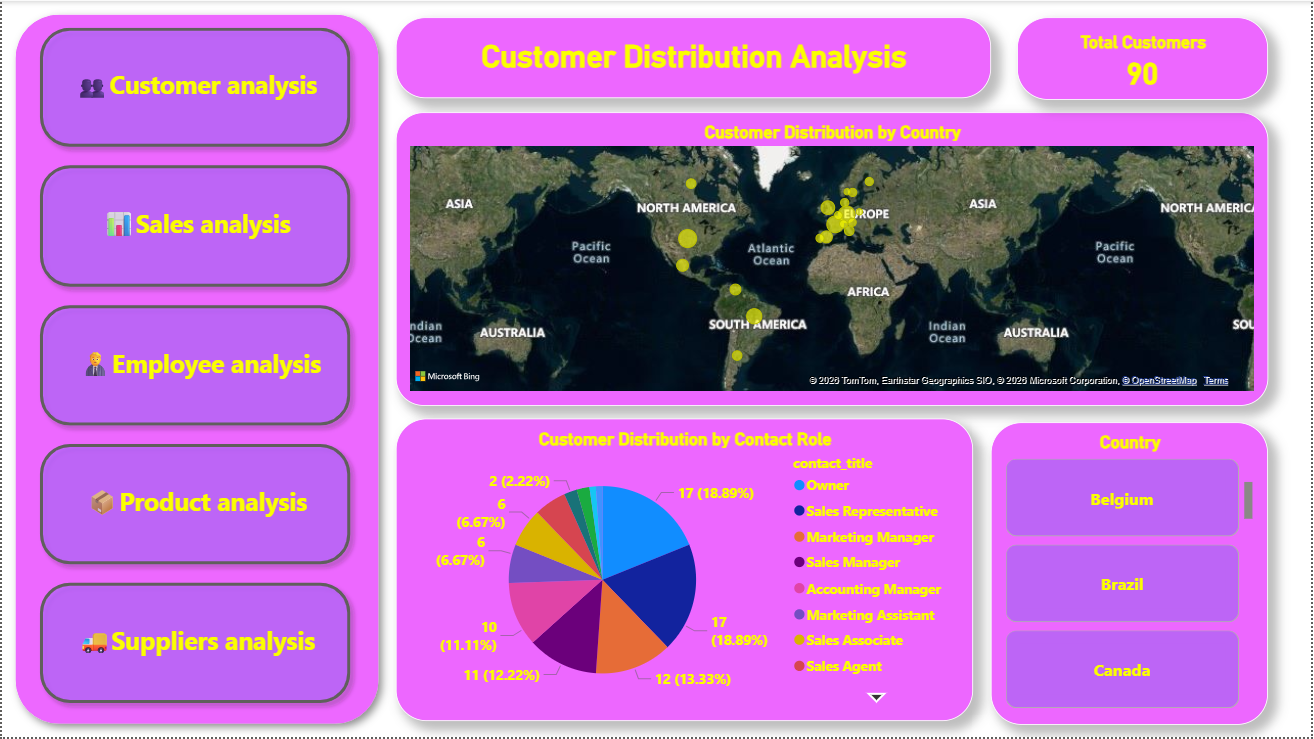

The dashboard page shown, as its layout file describes it:
{"tool":"powerbi","page":{"name":"Customer analysis","canvas":[1280,720],"ordinal":1},"visuals":[{"type":"shape","box":[0,0,381.5,720.2],"z":0},{"type":"actionButton","box":[28.1,151.6,321.6,137],"z":1000},{"type":"actionButton","box":[28.1,288.6,321.6,135.7],"z":2000},{"type":"actionButton","box":[28.1,560.1,321.6,135.7],"z":3000},{"type":"actionButton","box":[28.1,424.3,321.6,135.7],"z":4000},{"type":"actionButton","box":[28.1,17.1,321.6,134.5],"z":5000},{"type":"textbox","box":[61.1,45.2,258,78.3],"z":6000},{"type":"textbox","box":[61.1,181,258,78.3],"z":7000},{"type":"textbox","box":[61.1,317.9,258,78.3],"z":8000},{"type":"textbox","box":[61.1,453.7,258,78.3],"z":9000},{"type":"textbox","box":[61.1,589.4,258,78.3],"z":10000},{"type":"textbox","title":"Customer Distribution Analysis","box":[385.2,15.9,582.1,79.5],"z":11000},{"type":"map","title":"Customer Distribution by Country","fields":{"Category":["customers.country"],"Size":["customers.Total_Customers"]},"box":[385.2,108.8,853.5,287.4],"z":12000},{"type":"pieChart","title":"Customer Distribution by Contact Role","fields":{"Category":["customers.contact_title"],"Y":["CountNonNull(customers.customer_id)"]},"box":[385.2,408.4,564.9,295.9],"z":13000},{"type":"card","title":"Total Customers","fields":{"Values":["customers.Total_Customers"]},"box":[992.9,15.9,245.8,80.7],"z":14000},{"type":"advancedSlicerVisual","title":"Country","fields":{"Values":["customers.country"]},"box":[967.3,412.1,271.5,295.9],"z":15000}]}

Visuals, with their boxes in screenshot pixels (x1, y1, x2, y2), scaled from the page's 1280x720 canvas onto the 1314x739 screenshot:
shape: left=0, top=0, right=392, bottom=738
actionButton: left=29, top=156, right=359, bottom=296
actionButton: left=29, top=296, right=359, bottom=435
actionButton: left=29, top=575, right=359, bottom=714
actionButton: left=29, top=435, right=359, bottom=575
actionButton: left=29, top=18, right=359, bottom=156
textbox: left=63, top=46, right=328, bottom=127
textbox: left=63, top=186, right=328, bottom=266
textbox: left=63, top=326, right=328, bottom=407
textbox: left=63, top=466, right=328, bottom=546
textbox: left=63, top=605, right=328, bottom=685
"Customer Distribution Analysis" textbox: left=395, top=16, right=993, bottom=98
"Customer Distribution by Country" map: left=395, top=112, right=1272, bottom=407
"Customer Distribution by Contact Role" pieChart: left=395, top=419, right=975, bottom=723
"Total Customers" card: left=1019, top=16, right=1272, bottom=99
"Country" advancedSlicerVisual: left=993, top=423, right=1272, bottom=727
